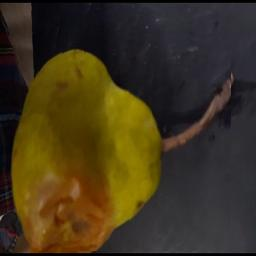Pear Rotten: (5, 28, 231, 251)
